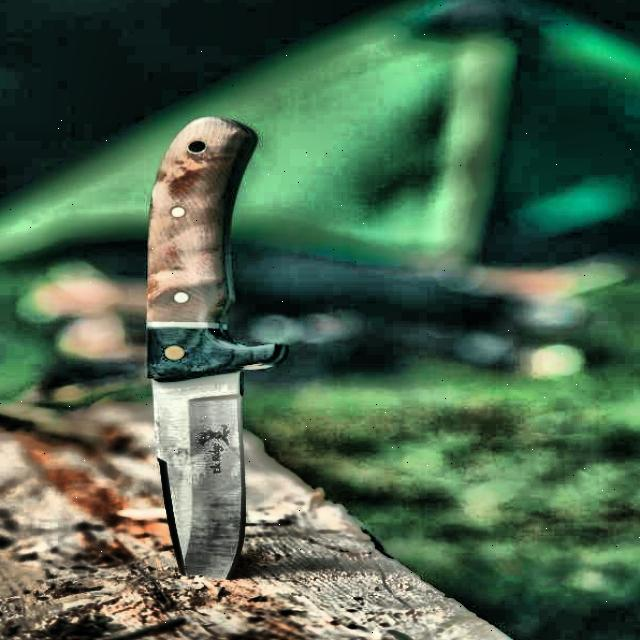knife: (137, 115, 273, 586)
